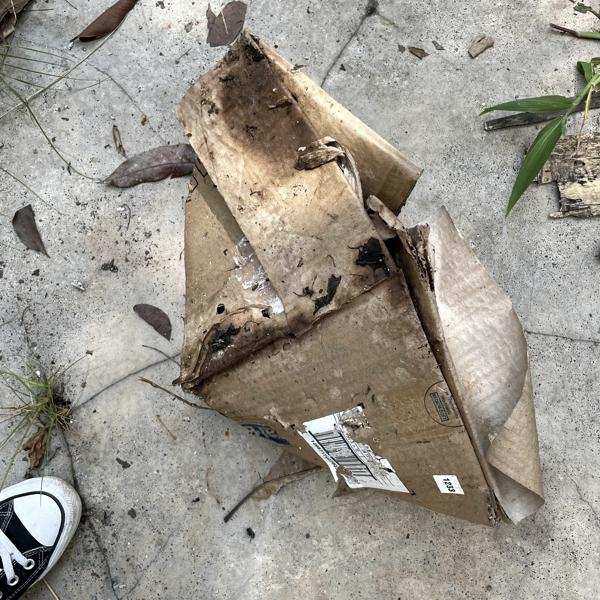Organik: (164, 17, 554, 541)
